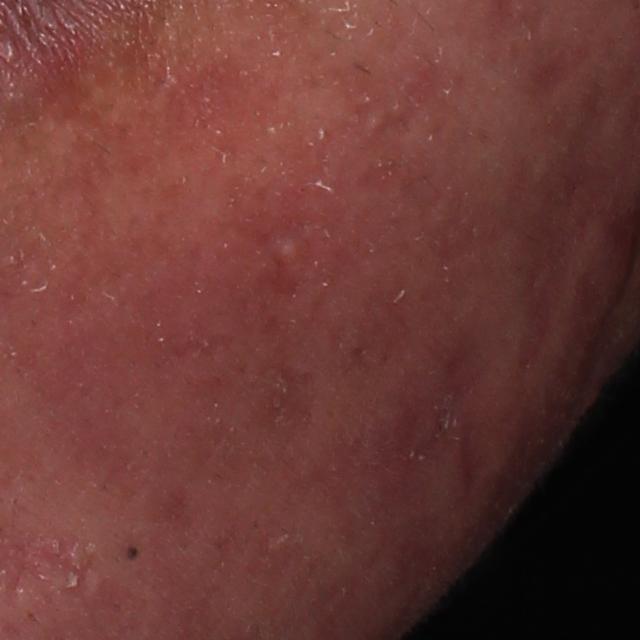nevus: (121, 541, 143, 569)
